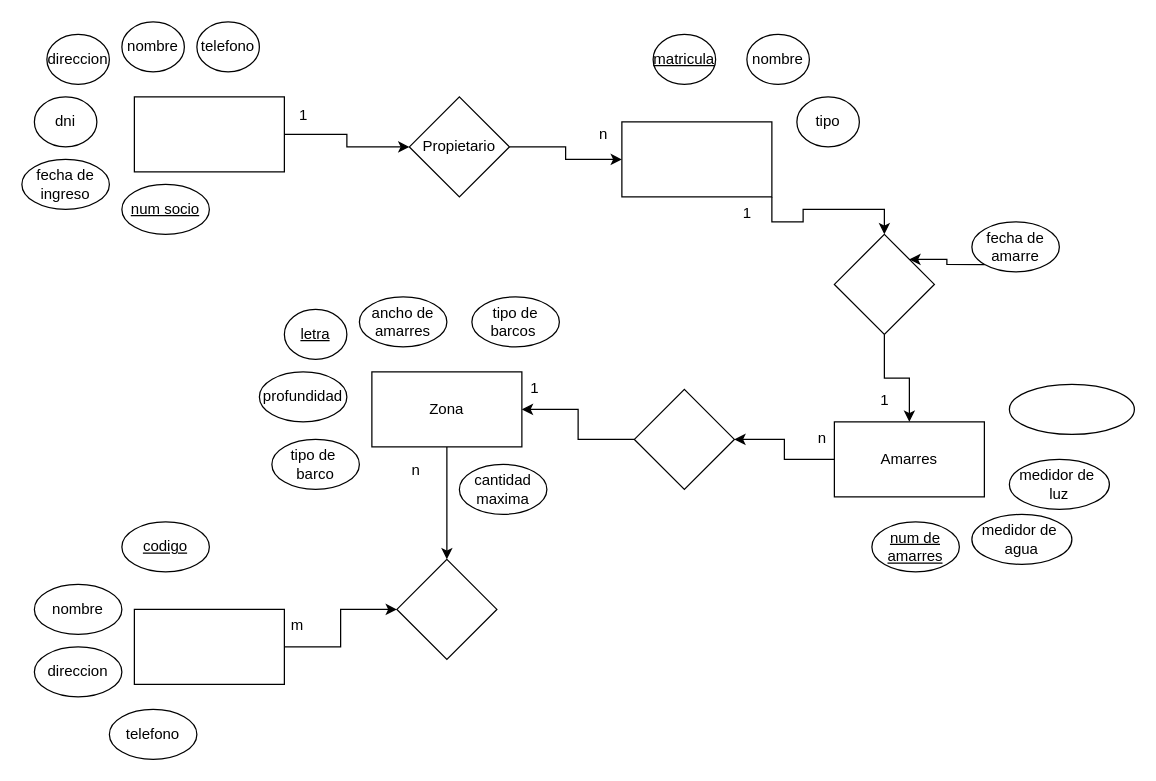
Some shapes in this 1156 by 781 pixel diagram are drawn without their labels. Each missing label, with the box of its shape:
Asignado: (833, 233, 934, 334)
Embarcaciones: (621, 121, 772, 197)
Empleados: (133, 608, 284, 684)
Pertenece: (633, 388, 734, 489)
serv. de mantenimiento: (1008, 383, 1134, 434)
Socios: (133, 96, 284, 172)
